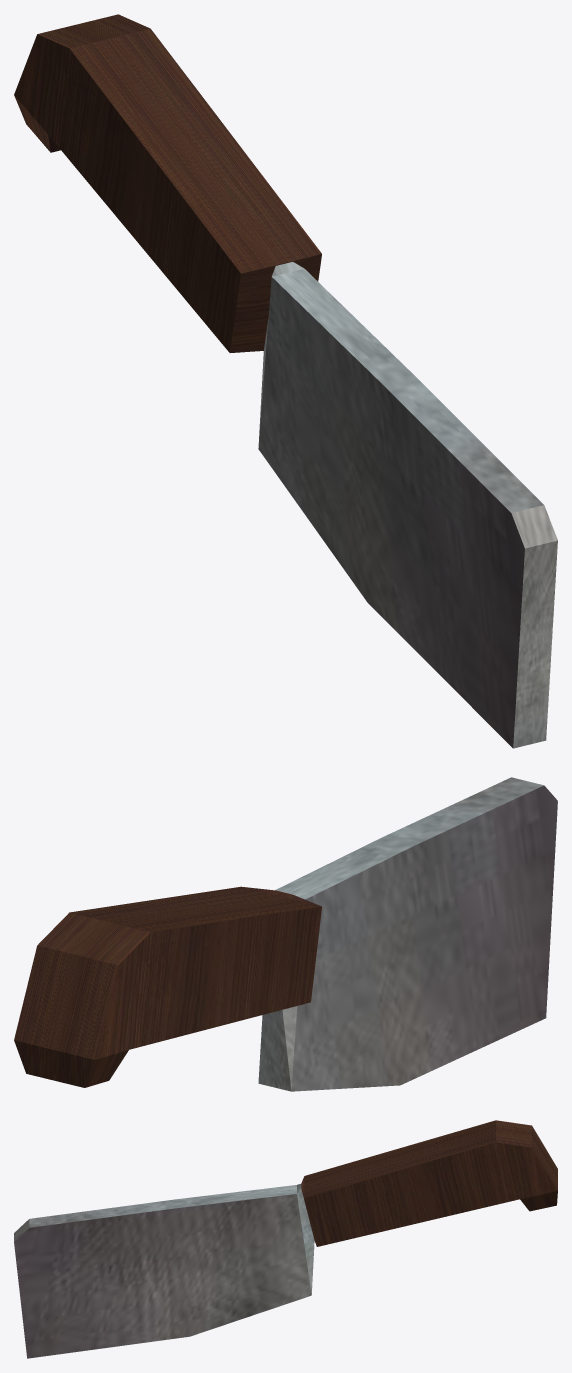
Rendered from satara.glb.
3 renders of one model, top to bottom at view 1: azimuth 30°, elevation 25°; view 2: azimuth 150°, elevation 25°; view 3: azimuth 270°, elevation 25°, orthographic. The views are drawn at different scales.
Visible parts, largest first — view 1: Cube; view 2: Cube; view 3: Cube.
Part boxes in pixels (x1,y1,x2,y2): Cube: (14,14,557,748); Cube: (14,777,557,1091); Cube: (14,1120,557,1358).
Size of the model in its own units: 0.42 by 1.97 by 4.36.
Materials: 2 (2 with a texture image).
